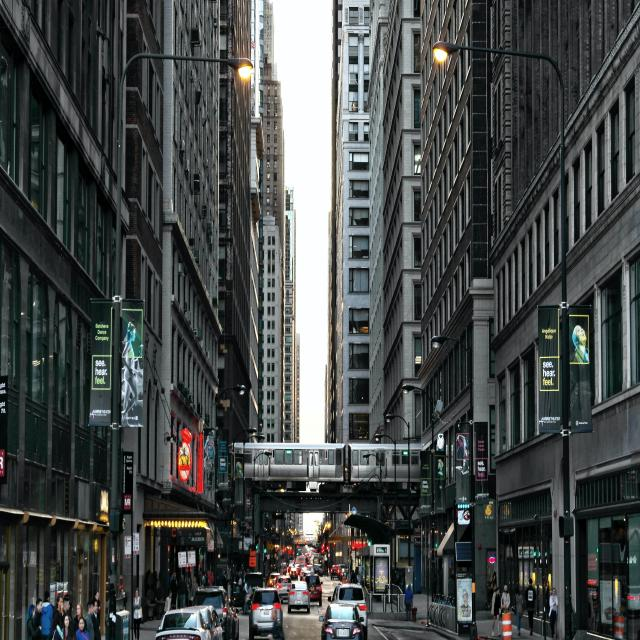Street Light: (109, 53, 254, 640), (433, 42, 572, 639), (431, 336, 478, 640), (401, 383, 439, 602), (214, 385, 246, 591), (385, 414, 411, 599), (374, 435, 396, 587), (252, 452, 272, 570), (241, 428, 257, 573), (362, 453, 382, 568)
